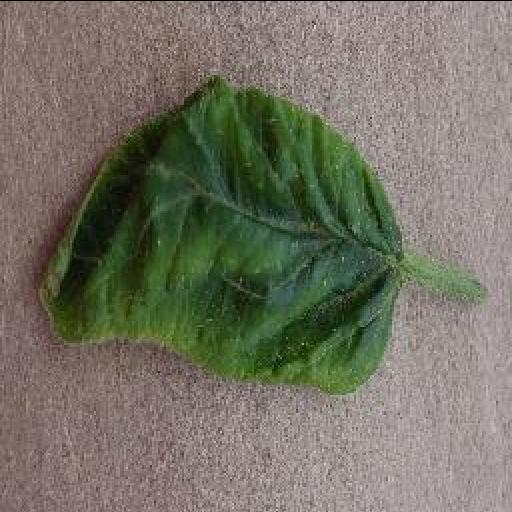disease_tomato: (34, 73, 406, 393)
